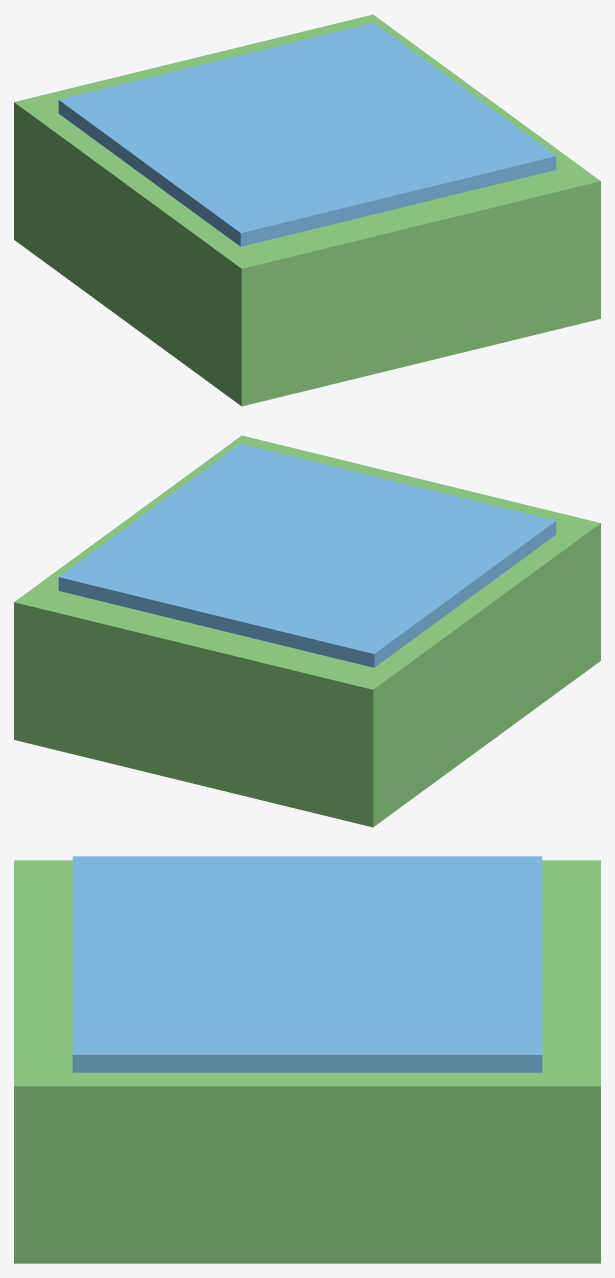
The model's file is Prop_Pet_AMF_Bowl_V5.glb.
The picture shows the model from 3 angles, top to bottom: view 1: azimuth 30°, elevation 25°; view 2: azimuth 150°, elevation 25°; view 3: azimuth 270°, elevation 25°; orthographic projection. The views are drawn at different scales.
Parts seen in each view (by area): view 1: Prop_Pet_AMF_Bowl_V5; view 2: Prop_Pet_AMF_Bowl_V5; view 3: Prop_Pet_AMF_Bowl_V5.
Part boxes in pixels (x1=…): Prop_Pet_AMF_Bowl_V5: x1=14, y1=14, x2=600, y2=406; Prop_Pet_AMF_Bowl_V5: x1=14, y1=435, x2=600, y2=827; Prop_Pet_AMF_Bowl_V5: x1=14, y1=856, x2=600, y2=1263.
Bounding box in the file's own units: 0.2731 × 0.11 × 0.3.
